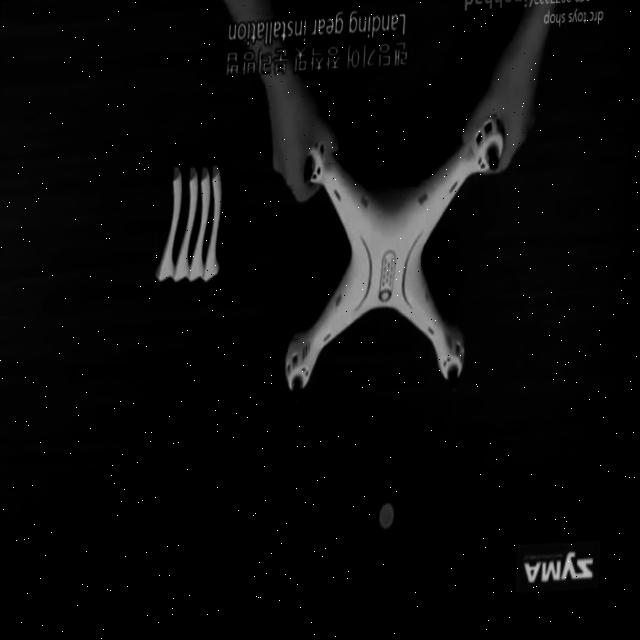drone: (281, 121, 512, 411)
